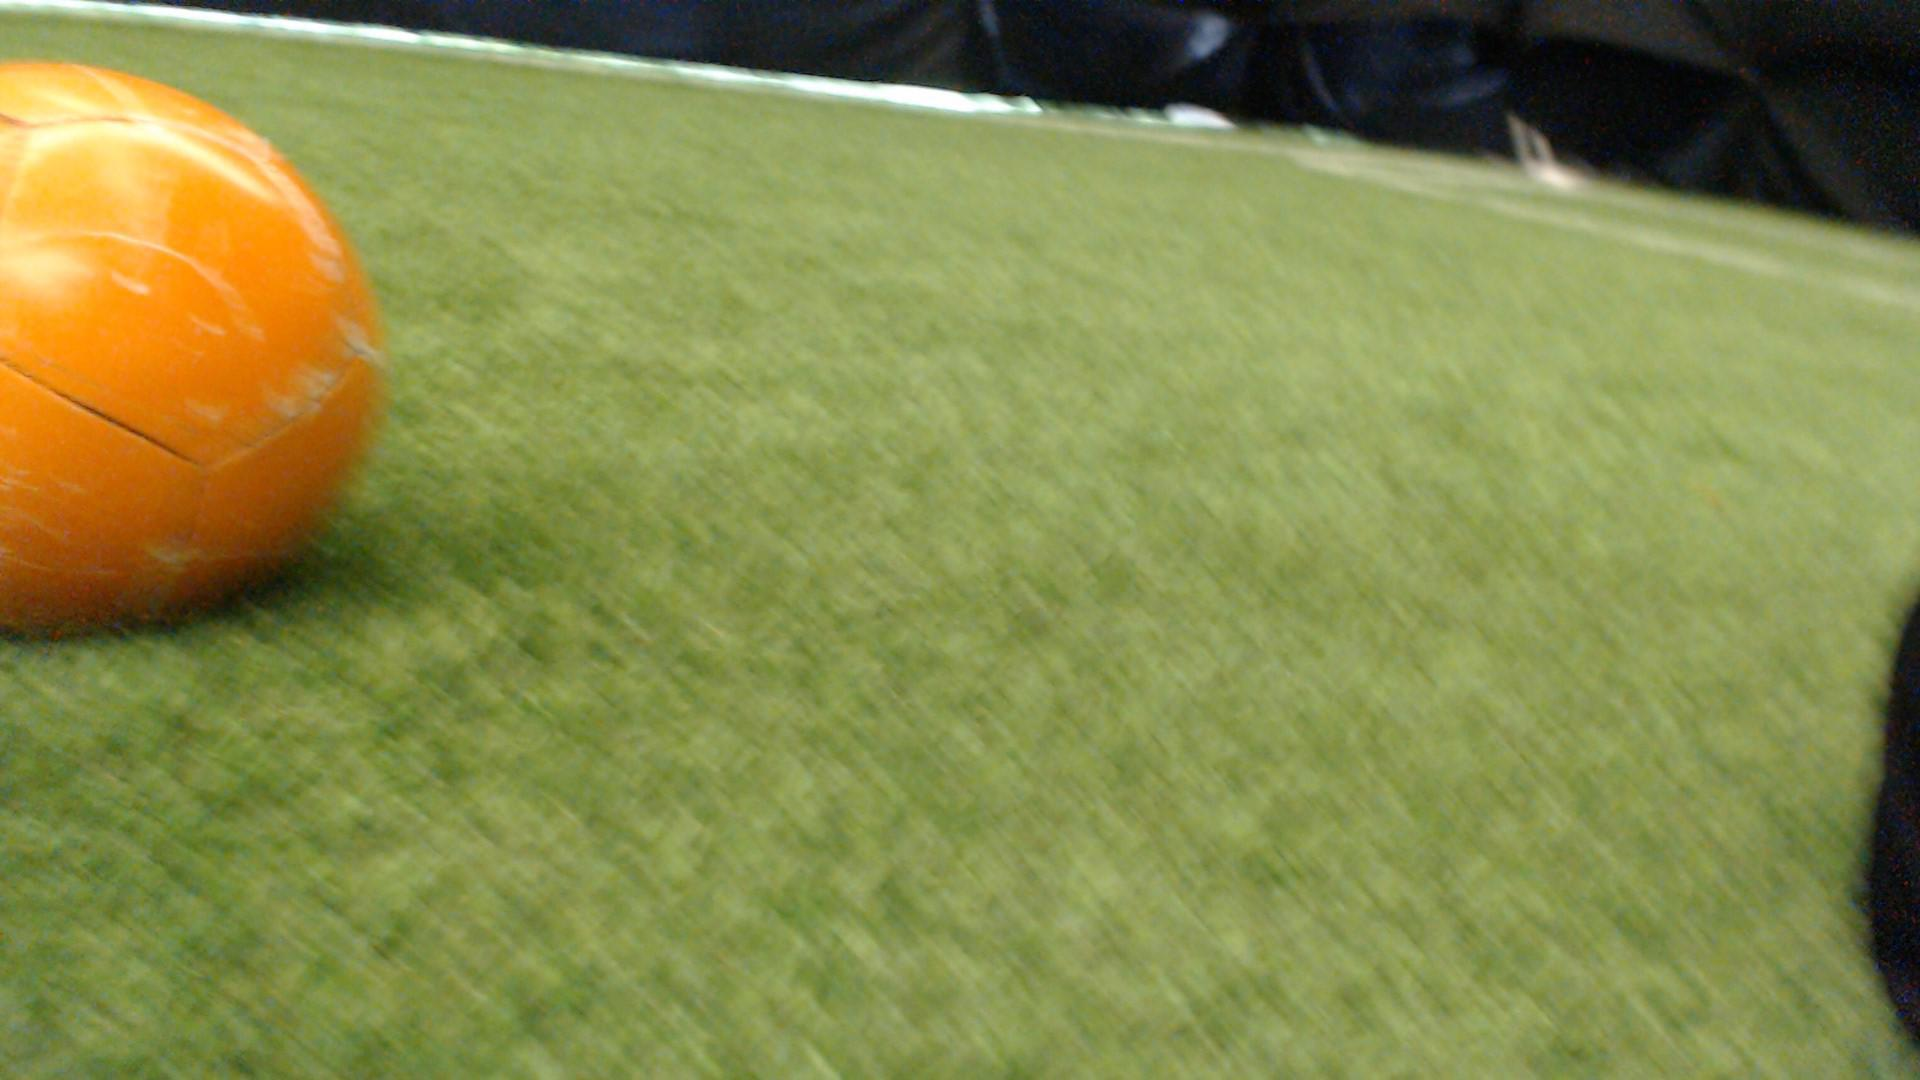bola: (0, 36, 419, 678)
